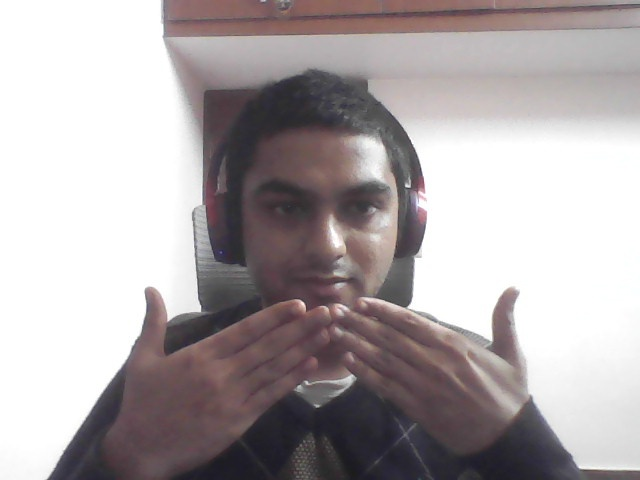Thank You: (80, 270, 567, 467)
